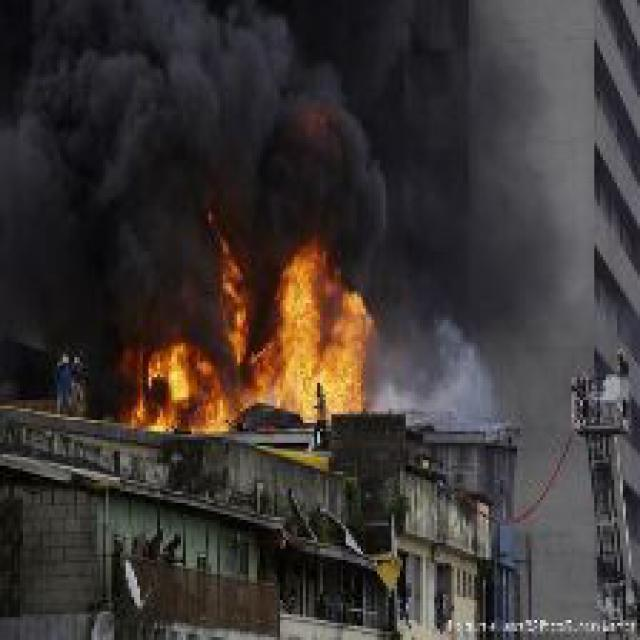fire: (132, 226, 392, 431)
